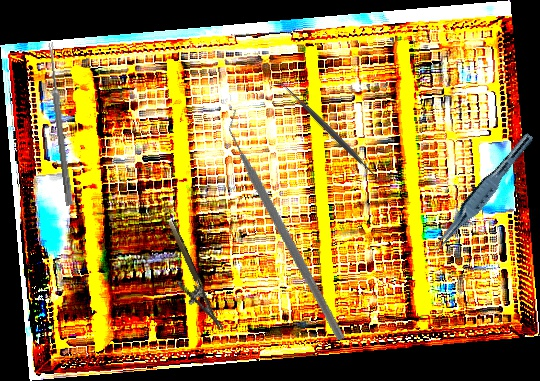Chopper: (159, 106, 418, 344)
Needle Holder: (152, 218, 224, 339)
Spatula Surgical: (274, 75, 391, 191)
Surgical Spoon: (46, 42, 74, 206)
Tissue Forceps: (428, 127, 536, 259)
